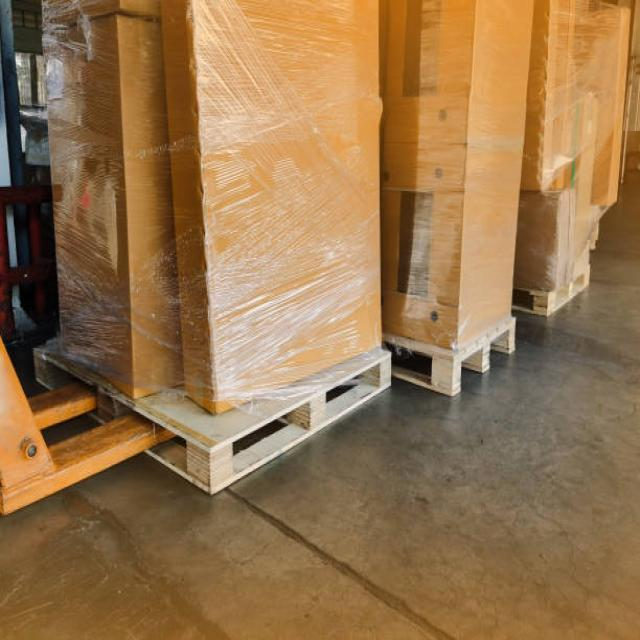Wooden-Pallets: (142, 340, 396, 506), (446, 308, 521, 415), (541, 249, 596, 329)
